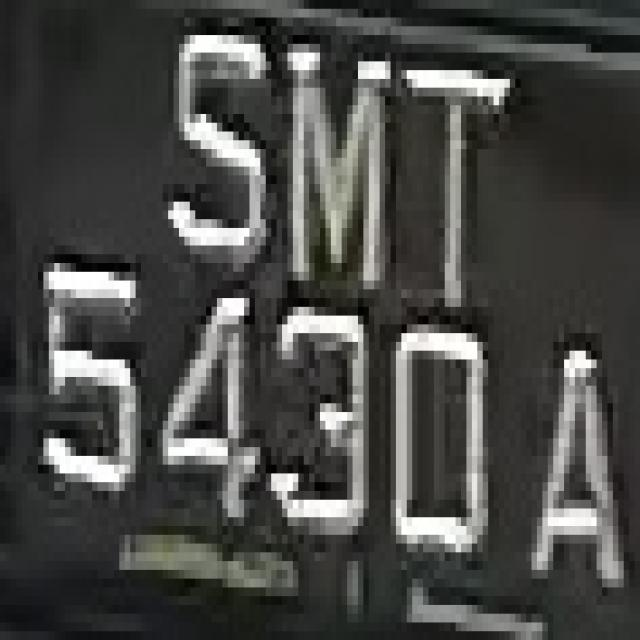0: (385, 298, 499, 605)
3: (266, 289, 385, 570)
4: (141, 254, 271, 526)
5: (22, 237, 146, 517)
A: (504, 307, 624, 614)
M: (271, 44, 412, 307)
S: (157, 9, 271, 272)
T: (385, 26, 510, 298)
